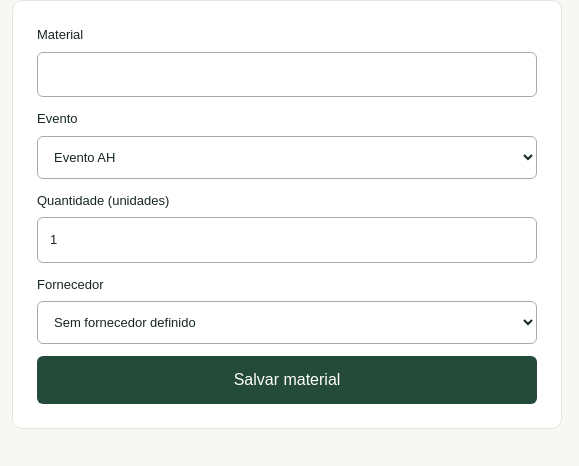
Test: material envia quantidade e os vínculos selecionados
The width and height of the screenshot is (579, 466).
Type "Microfone" into the field labelled "Material" at point(287, 74), box [37,52,537,97]
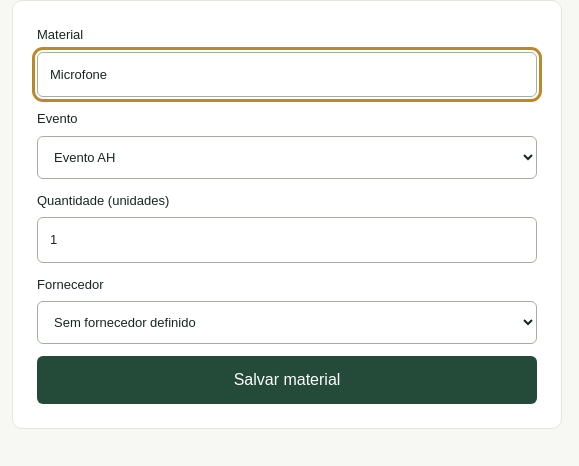
Replace the text in the number field labelled "Quantidade (unidades)" with "4" at point(287, 240), box [37,217,537,262]
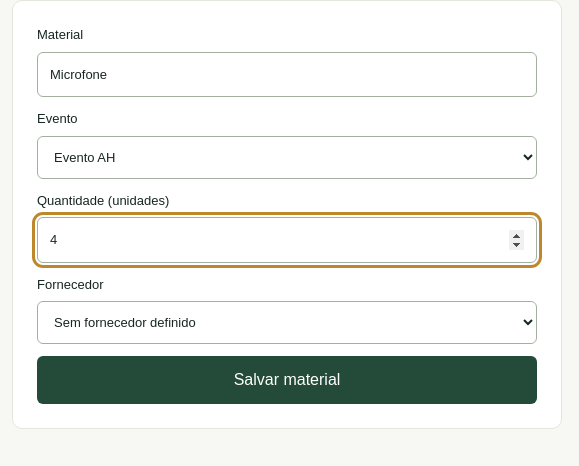
Select "Fornecedor AH" in the dropdown labelled "Fornecedor" at point(287, 322), box [37,301,537,344]
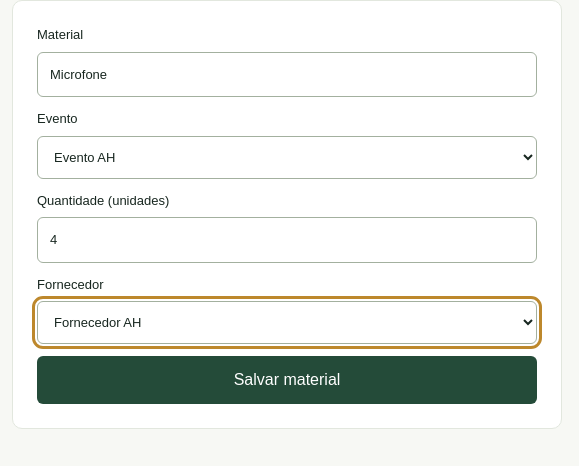
Click the button "Salvar material" at point(287, 380), box [37,356,537,404]
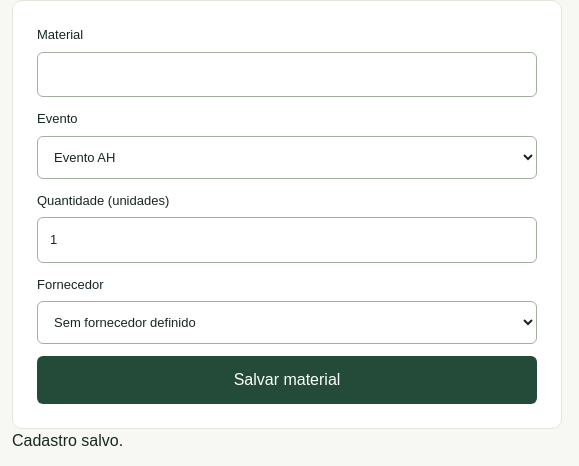
Expected: the message "Cadastro salvo." is shown, [12,432,123,449]
